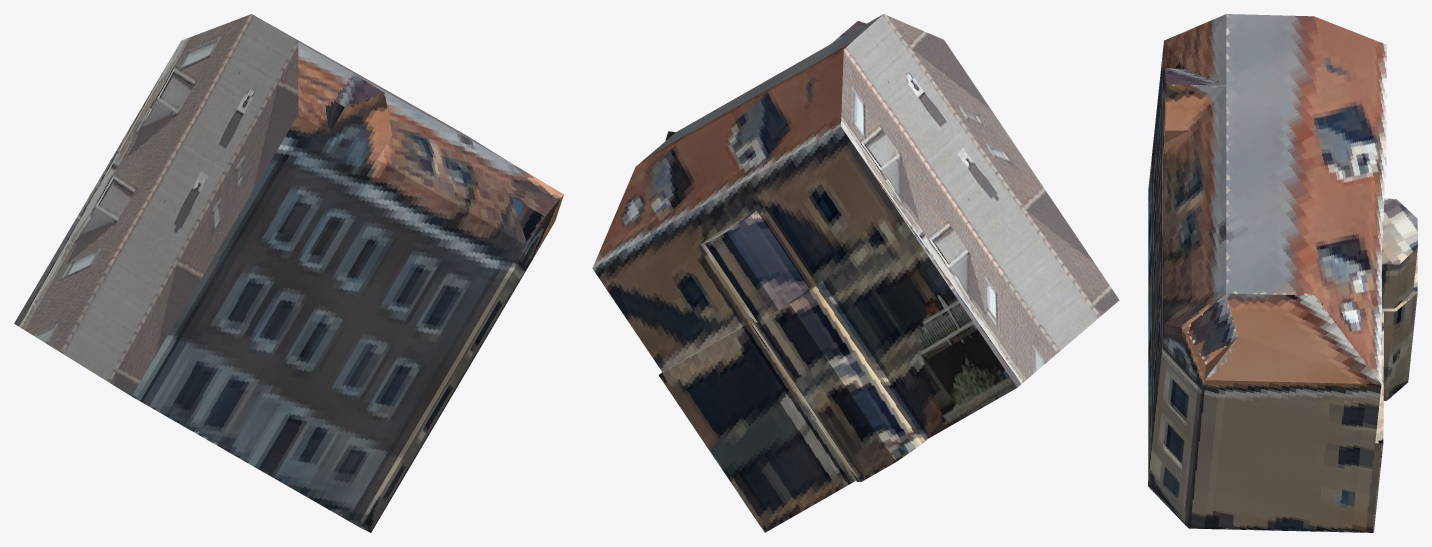
3 renders of one model, left to right at view 1: azimuth 30°, elevation 25°; view 2: azimuth 150°, elevation 25°; view 3: azimuth 270°, elevation 25°, orthographic. The views are drawn at different scales.
Visible parts, largest first — view 1: BAG_0599100000688744 (×6); view 2: BAG_0599100000688744 (×6); view 3: BAG_0599100000688744 (×6).
Boxes of the visible parts, left/top/right/bottom form: BAG_0599100000688744 (×6): left=14, top=14, right=563, bottom=532; BAG_0599100000688744 (×6): left=592, top=14, right=1119, bottom=532; BAG_0599100000688744 (×6): left=1148, top=14, right=1417, bottom=532.
Size of the model in its own units: 17.7 by 18.34 by 9.06.
Materials: 1 (1 with a texture image).
